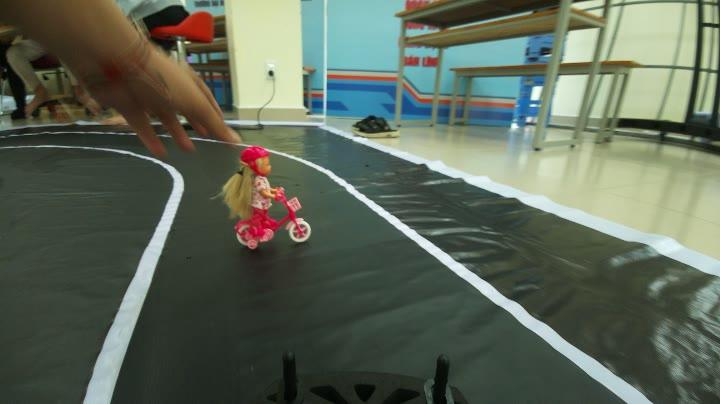pedestrian: (206, 150, 330, 246)
